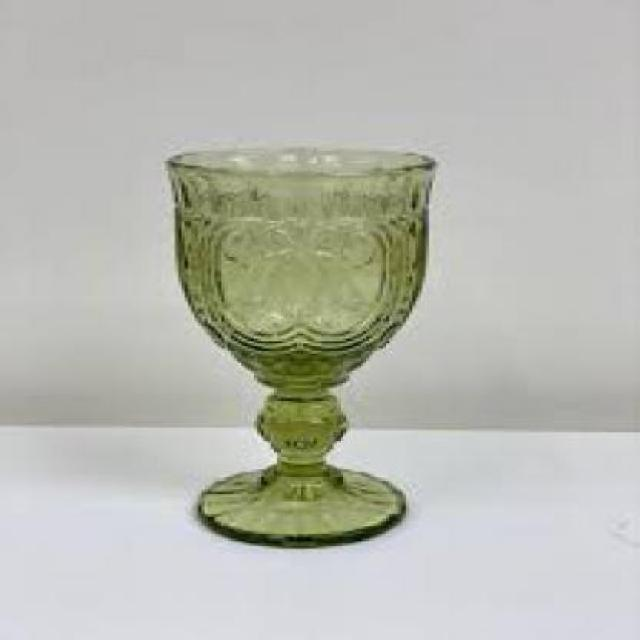kaca: (162, 143, 432, 546)
